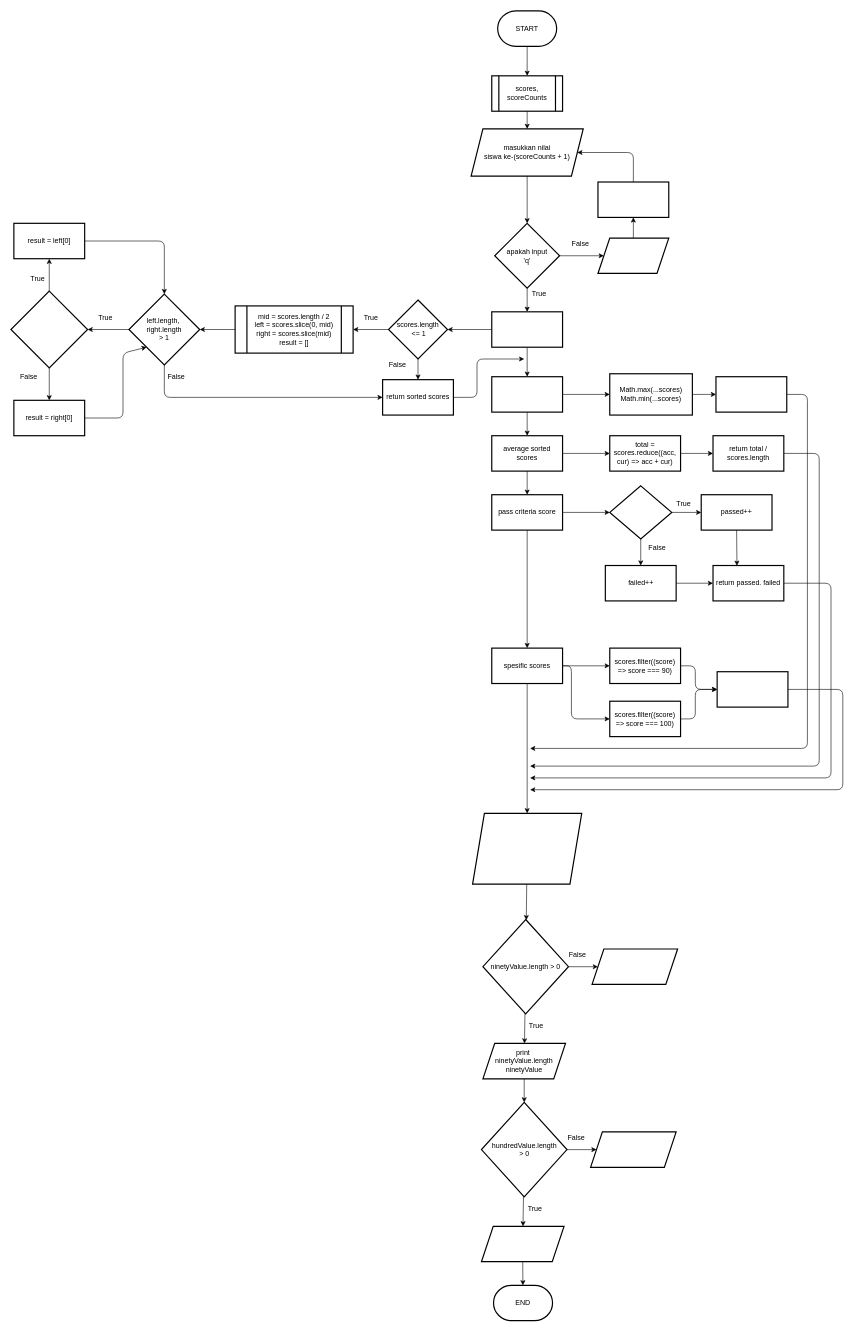
Some shapes in this 858 by 1331 pixel diagram are drawn without their labels. Each missing label, with the centre of its shape:
"input scores" belongs at (x=633, y=255).
"left[0] < right[0]" belongs at (x=49, y=329).
"minMax sorted scores" belongs at (x=527, y=394).
"print hundredValue.length hundredValue" belongs at (x=522, y=1243).
"print sorted scores, max, min, average passed, failed student" belongs at (x=527, y=848).
"print Tidak terdapat siswa dengan nilai 100!" belongs at (x=633, y=1149).
"print Tidak terdapat siswa dengan nilai 90!" belongs at (x=634, y=966).
"return max, min" belongs at (x=751, y=394).
"return ninetyValue, hundredValue" belongs at (x=752, y=689).
"score >= 60" belongs at (x=640, y=512).
"scoreCounts++" belongs at (x=633, y=199).
"sort scores" belongs at (x=527, y=329).
